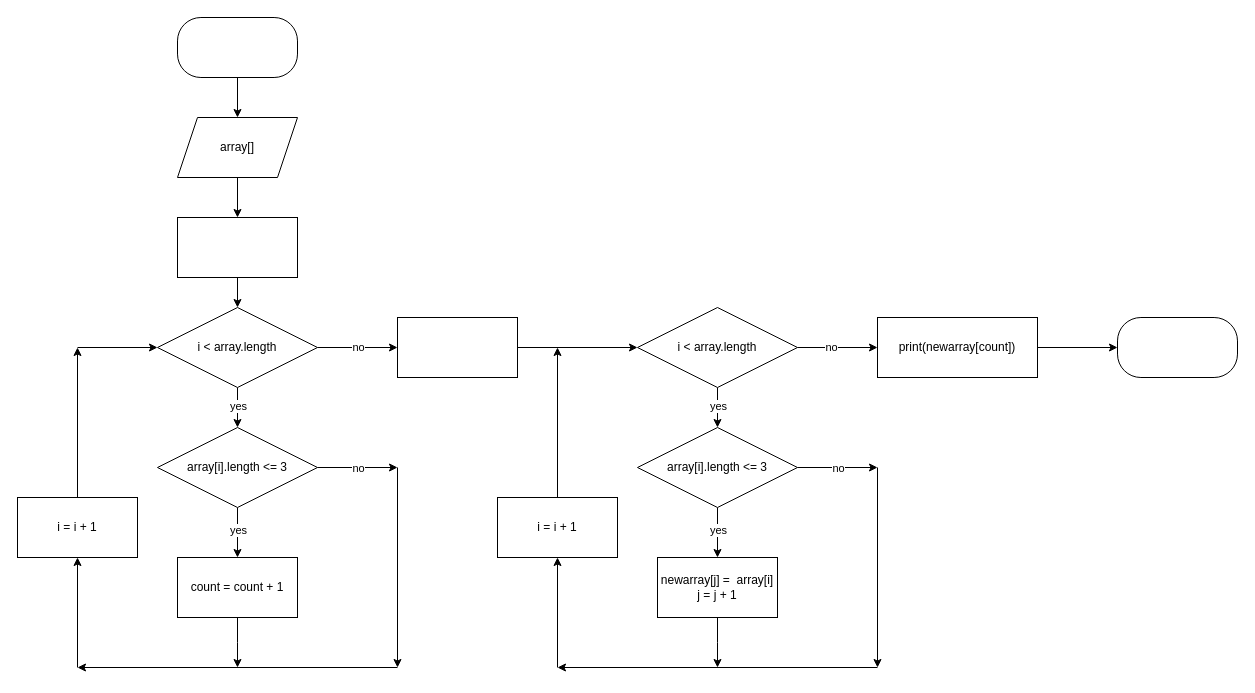
Image size: 1255x693. Some labels were removed from this diagram. The shapes that lost their labels are listed below. From the top down, each one's centre as x and y in pixels, then its label:
(x=237, y=47): Старт
(x=237, y=247): i = 0 count = 0
(x=457, y=347): i = 0 j = 0
(x=1177, y=347): Конец
